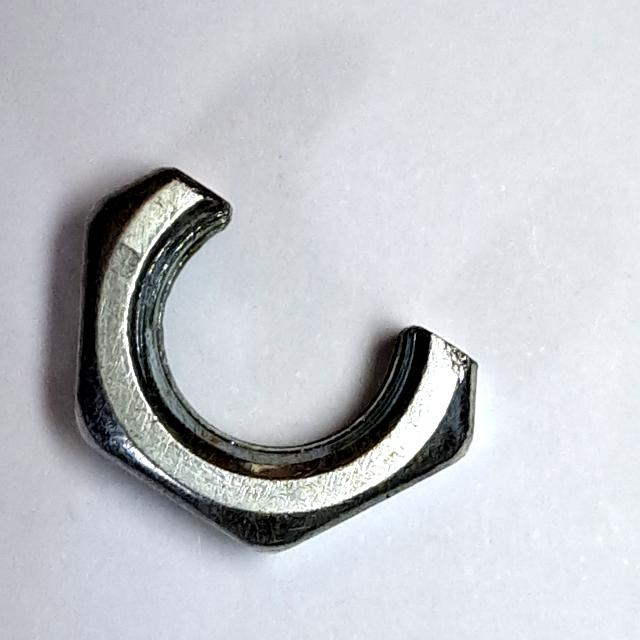Fracture: (58, 153, 504, 564)
